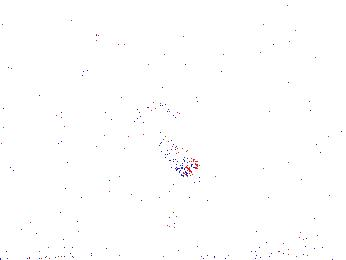flame jellyfish: (120, 100, 200, 179), (89, 171, 153, 227), (147, 172, 206, 226)
